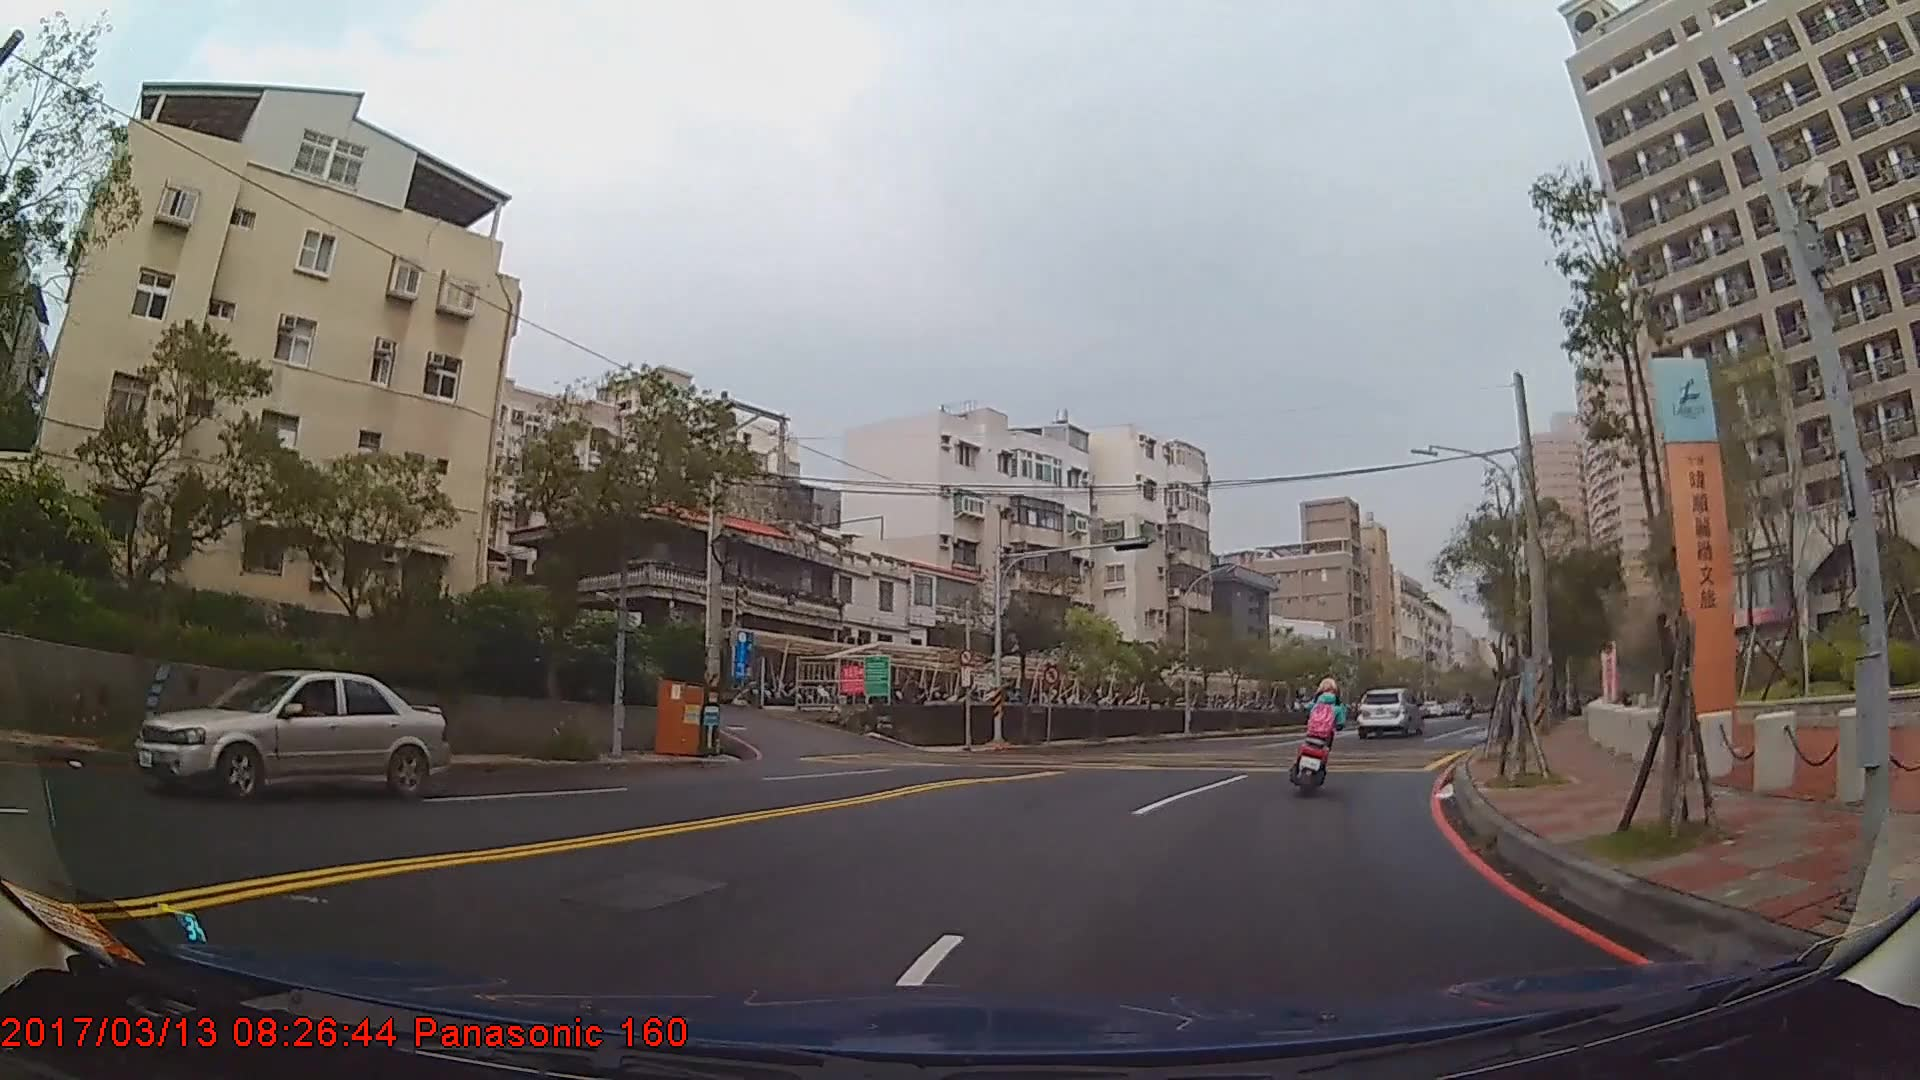rider: (1290, 676, 1349, 792)
vehicle: (134, 668, 450, 802), (1354, 687, 1420, 737)
